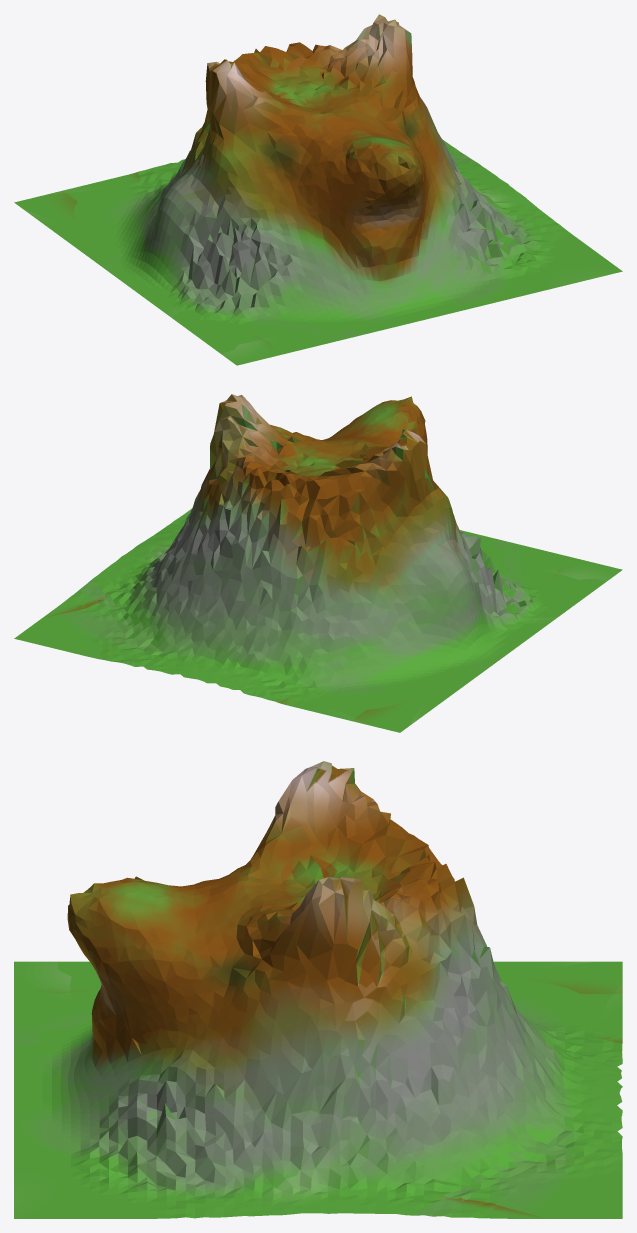
Rendered from mountain.glb.
3 views of the same model, one above another, from view 1: azimuth 30°, elevation 25°; view 2: azimuth 150°, elevation 25°; view 3: azimuth 270°, elevation 25° (orthographic). The views are drawn at different scales.
Visible parts, largest first — view 1: Plane; view 2: Plane; view 3: Plane.
Boxes of the visible parts, <box> form: Plane: <box>14,14,622,365</box>; Plane: <box>14,394,622,732</box>; Plane: <box>14,761,622,1218</box>.
Bounding box in the file's own units: 2 × 0.9774 × 2.
1 material, 1 textured.
